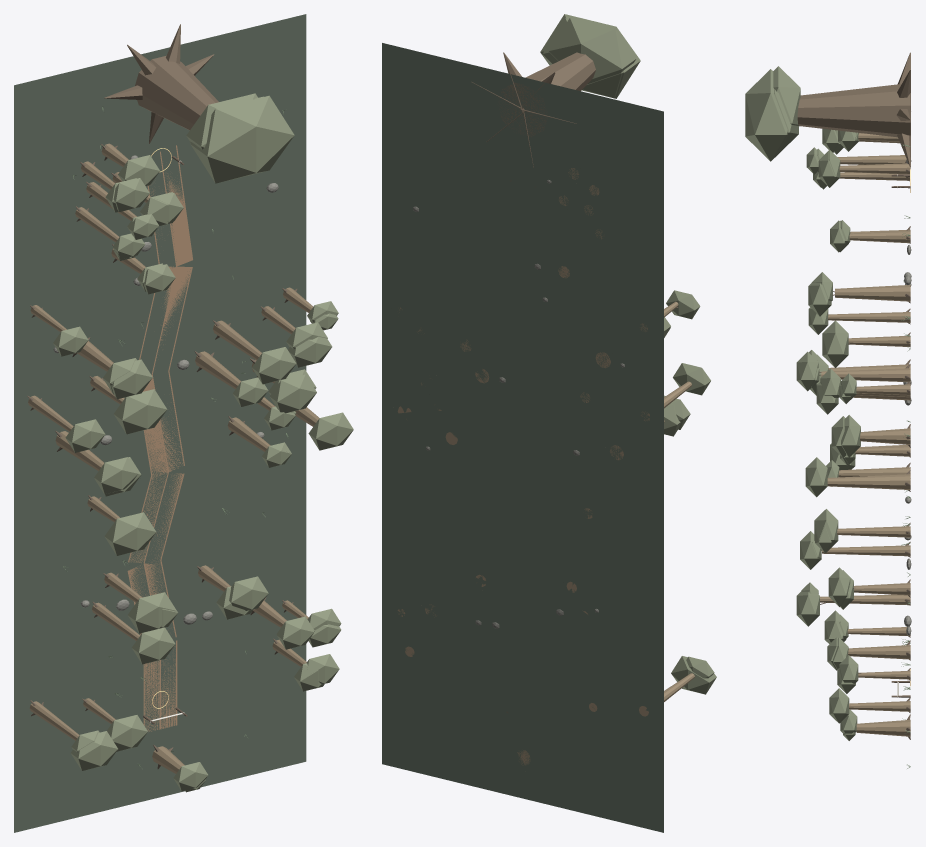
Rendered from forbidden_forest_m1.glb.
3 renders of one model, left to right at view 1: azimuth 30°, elevation 25°; view 2: azimuth 150°, elevation 25°; view 3: azimuth 270°, elevation 25°, orthographic. The views are drawn at different scales.
Visible parts, largest first — view 1: FOREST_GROUND, CANOPY, TREE_TRUNKS, LATERITE_PATH, GREAT_ROOT_MOTHER, ROCKS, BUTTRESS_ROOTS; view 2: FOREST_GROUND, CANOPY, GREAT_ROOT_MOTHER, TREE_TRUNKS; view 3: CANOPY, TREE_TRUNKS, GREAT_ROOT_MOTHER, BUTTRESS_ROOTS, ROCKS.
Boxes of the visible parts, left/top/right/bottom form: FOREST_GROUND: left=14, top=14, right=306, bottom=832; CANOPY: left=53, top=93, right=353, bottom=792; TREE_TRUNKS: left=28, top=143, right=319, bottom=773; LATERITE_PATH: left=127, top=145, right=192, bottom=731; GREAT_ROOT_MOTHER: left=104, top=24, right=218, bottom=143; ROCKS: left=53, top=155, right=278, bottom=624; BUTTRESS_ROOTS: left=27, top=144, right=297, bottom=768; FOREST_GROUND: left=382, top=43, right=663, bottom=832; CANOPY: left=540, top=14, right=716, bottom=694; GREAT_ROOT_MOTHER: left=471, top=52, right=595, bottom=167; TREE_TRUNKS: left=397, top=168, right=694, bottom=765; CANOPY: left=745, top=66, right=860, bottom=740; TREE_TRUNKS: left=820, top=133, right=910, bottom=736; GREAT_ROOT_MOTHER: left=797, top=52, right=910, bottom=167; BUTTRESS_ROOTS: left=904, top=161, right=910, bottom=739; ROCKS: left=903, top=159, right=911, bottom=635.
Size of the model in its own units: 36 by 90.43 by 19.31.
